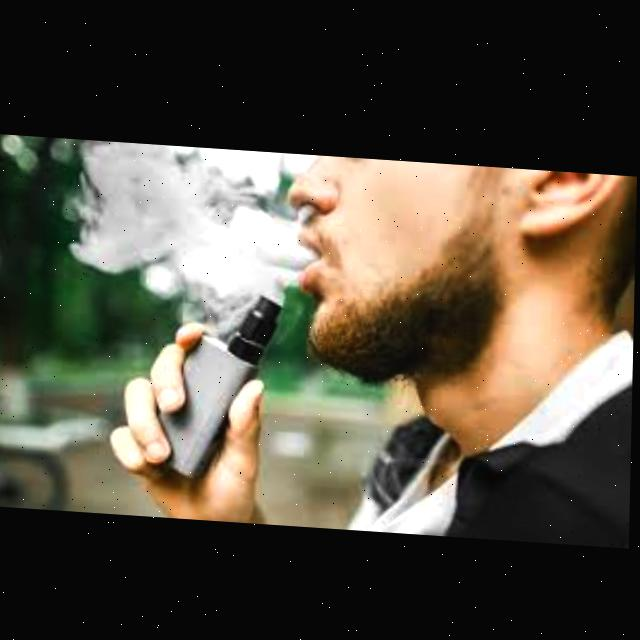vape: (148, 286, 285, 478)
